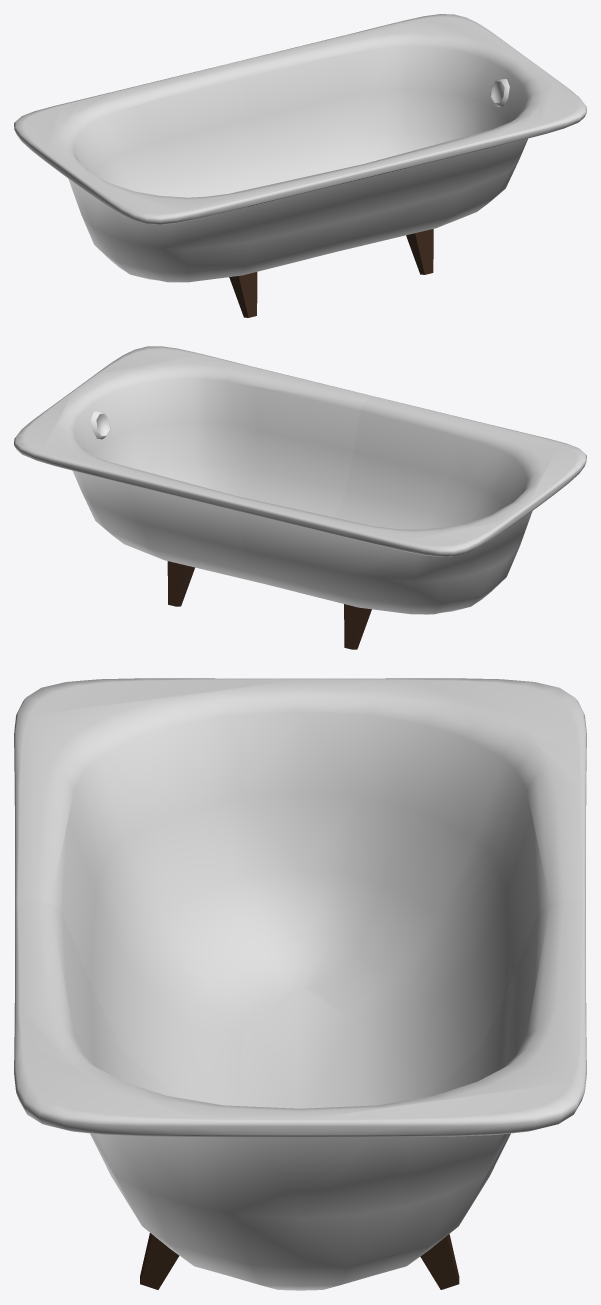
File: Bath.fbx
3 views of the same model, one above another, from view 1: azimuth 30°, elevation 25°; view 2: azimuth 150°, elevation 25°; view 3: azimuth 270°, elevation 25° (orthographic). The views are drawn at different scales.
Parts seen in each view (by area): view 1: vanna; view 2: vanna; view 3: vanna.
Part boxes in pixels (x1,y1,x2,y2): vanna: (14, 14, 586, 317); vanna: (14, 346, 586, 649); vanna: (14, 678, 586, 1290).
Size of the model in its own units: 661 by 210 by 360.
